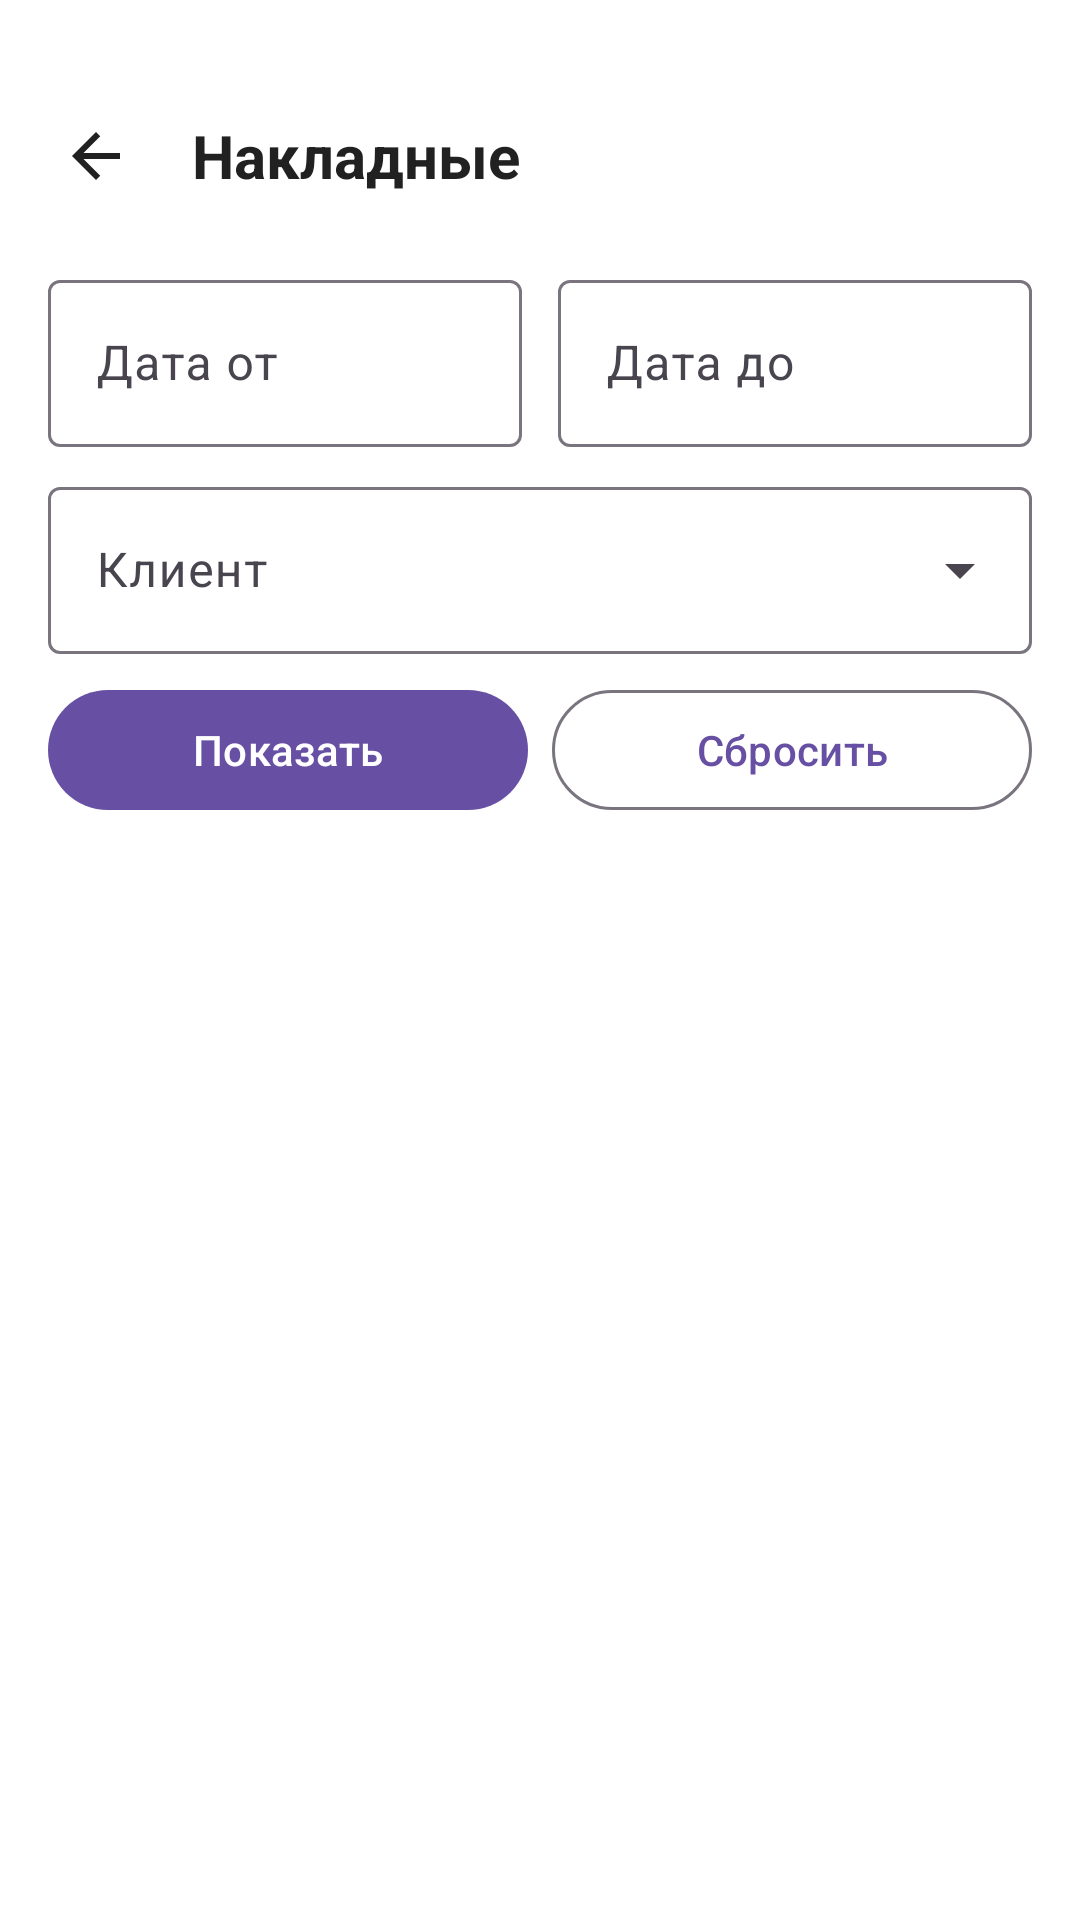

Point at icon controls on the screen. Image size 1080 × 1920, points as [x,y].
Назад: [96,156]
